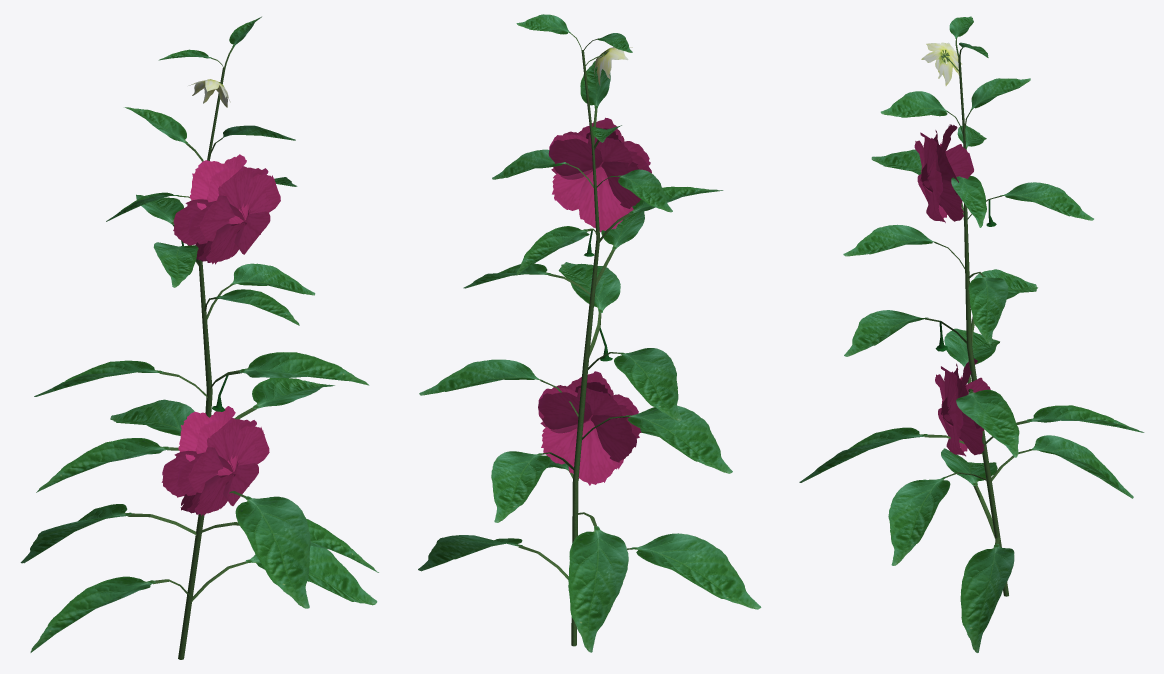
The model's file is flower plant.fbx.
3 views of the same model, side by side, from view 1: azimuth 30°, elevation 25°; view 2: azimuth 150°, elevation 25°; view 3: azimuth 270°, elevation 25° (orthographic). The views are drawn at different scales.
Parts seen in each view (by area): view 1: balsam_tree1; view 2: balsam_tree1; view 3: balsam_tree1.
Part boxes in pixels (left/top/right/bottom): balsam_tree1: left=20, top=16, right=378, bottom=659; balsam_tree1: left=418, top=14, right=761, bottom=652; balsam_tree1: left=799, top=16, right=1144, bottom=652.
Bounding box in the file's own units: 154 × 257 × 144.
2 materials, 2 textured.
